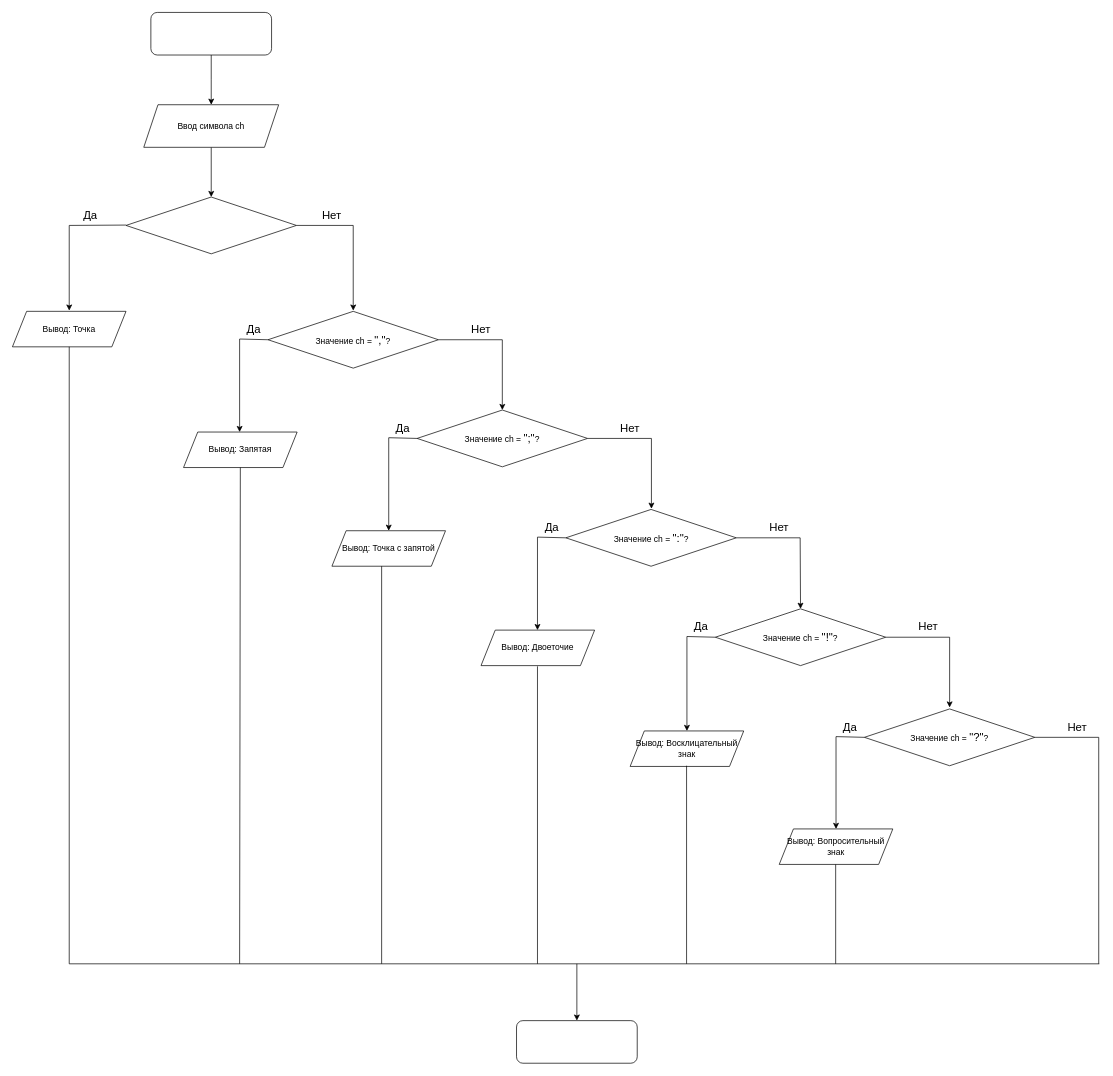
This 1113x1076 diagram has some shape labels left out. The centre of each missing label's shape, as x and y in pixels:
Значение ch = "." ?: pixel 210 225
Конец: pixel 576 1041
Начало: pixel 211 33
